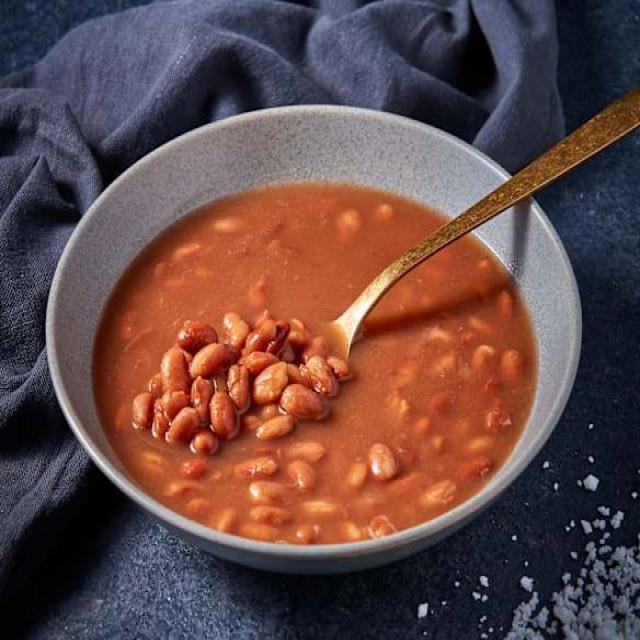frijoles: (68, 161, 555, 557)
